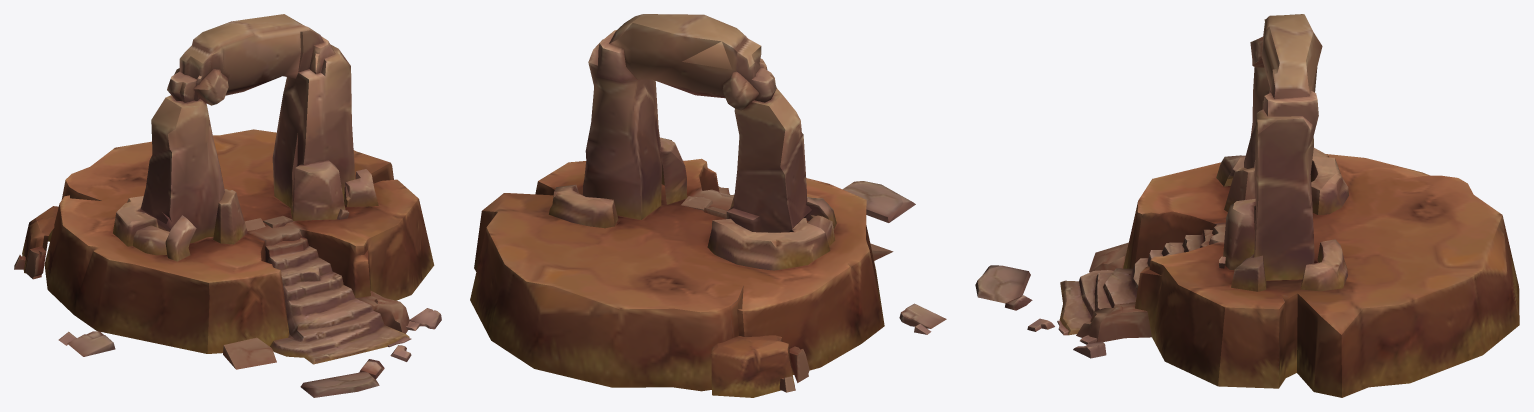
File: chuansongmen.FBX
3 views of the same model, side by side, from view 1: azimuth 30°, elevation 25°; view 2: azimuth 150°, elevation 25°; view 3: azimuth 270°, elevation 25° (orthographic). The views are drawn at different scales.
Visible parts, largest first — view 1: chuansongmen_01; view 2: chuansongmen_01; view 3: chuansongmen_01.
Part boxes in pixels (<box>): chuansongmen_01: <box>14,14,441,397</box>; chuansongmen_01: <box>470,14,946,397</box>; chuansongmen_01: <box>975,14,1519,397</box>.
Size of the model in its own units: 16.73 by 10.9 by 19.13.
